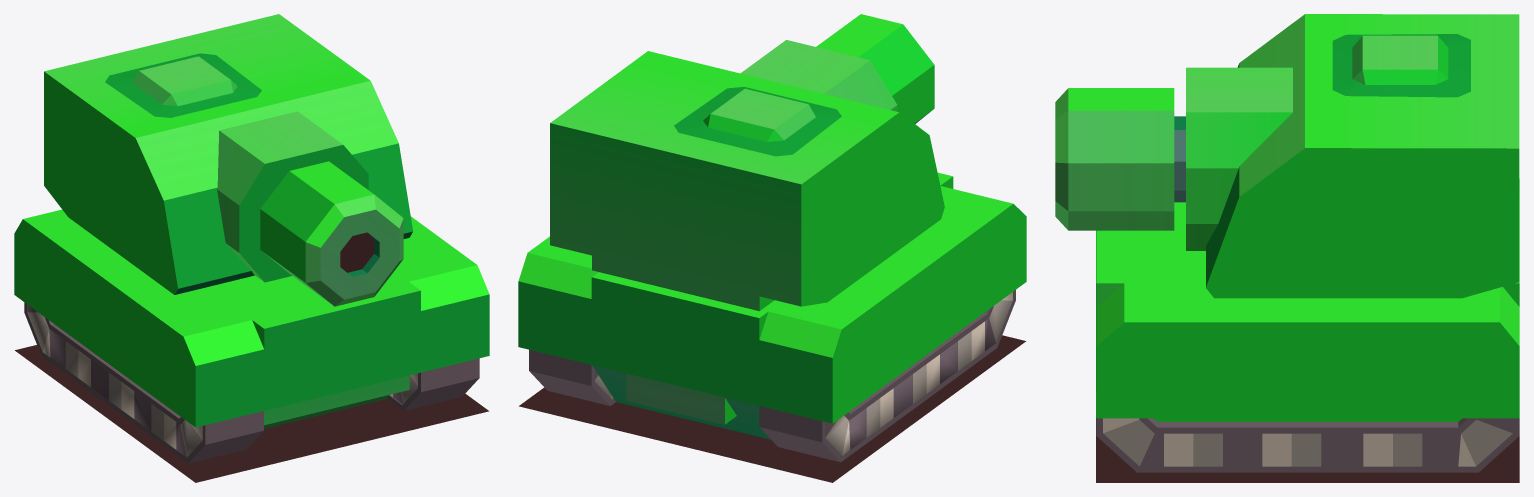
File: TankMesh.GreenEarth.glb
3 renders of one model, left to right at view 1: azimuth 30°, elevation 25°; view 2: azimuth 150°, elevation 25°; view 3: azimuth 270°, elevation 25°, orthographic. The views are drawn at different scales.
Parts seen in each view (by area): view 1: TankMesh.GreenEarth; view 2: TankMesh.GreenEarth; view 3: TankMesh.GreenEarth.
Part boxes in pixels (x1=…): TankMesh.GreenEarth: x1=14, y1=14, x2=489, y2=482; TankMesh.GreenEarth: x1=518, y1=14, x2=1026, y2=482; TankMesh.GreenEarth: x1=1055, y1=14, x2=1519, y2=482.
Size of the model in its own units: 1.5 by 1.38 by 1.76.
1 material, 1 textured.
